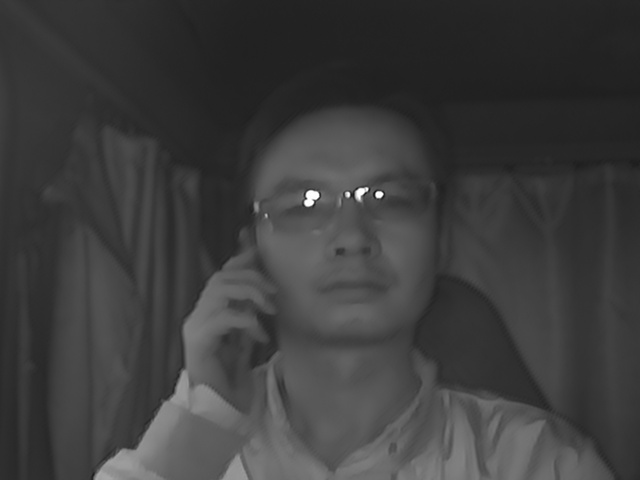hand: (182, 247, 272, 392)
